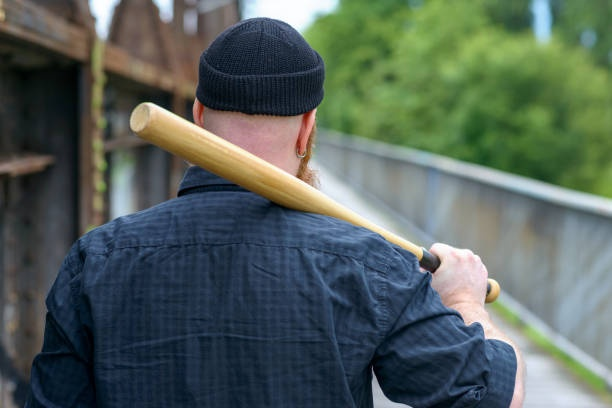bita: (137, 100, 493, 305)
